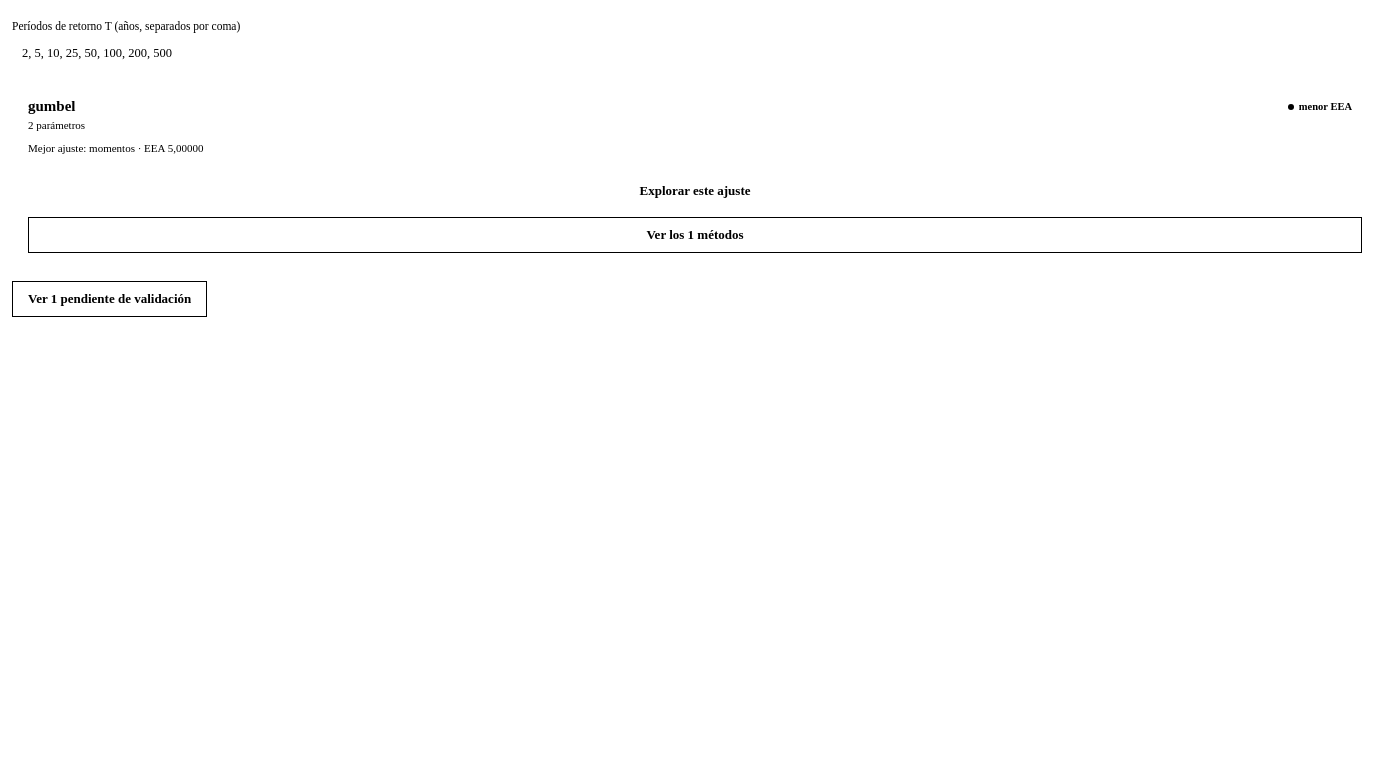
Test: Etapa2RankingView — distribución pendiente de validación (DECISIÓN 074) › la card se ve, con su tabla, pero sin ningún botón para elegir ni explorar
al final del ranking queda tras el botón de expandir, bajo su subtítulo
Click the button "Ver 1 pendiente de validación": click(110, 299) 12,281 -> 207,317
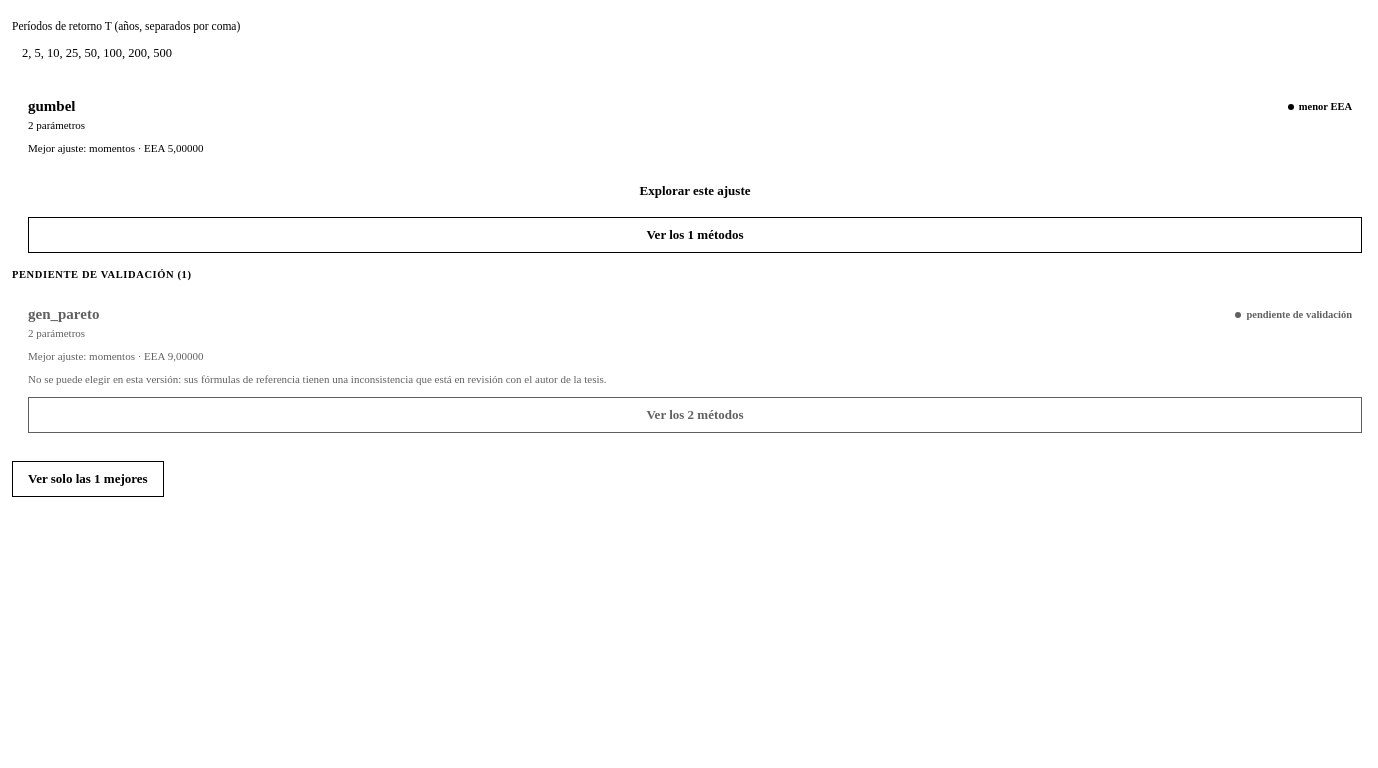
Result: the text "No se puede elegir en esta versión" is shown at 28,373 -> 606,385
Click the button "Ver los 2 métodos": click(695, 415) 28,397 -> 1362,433
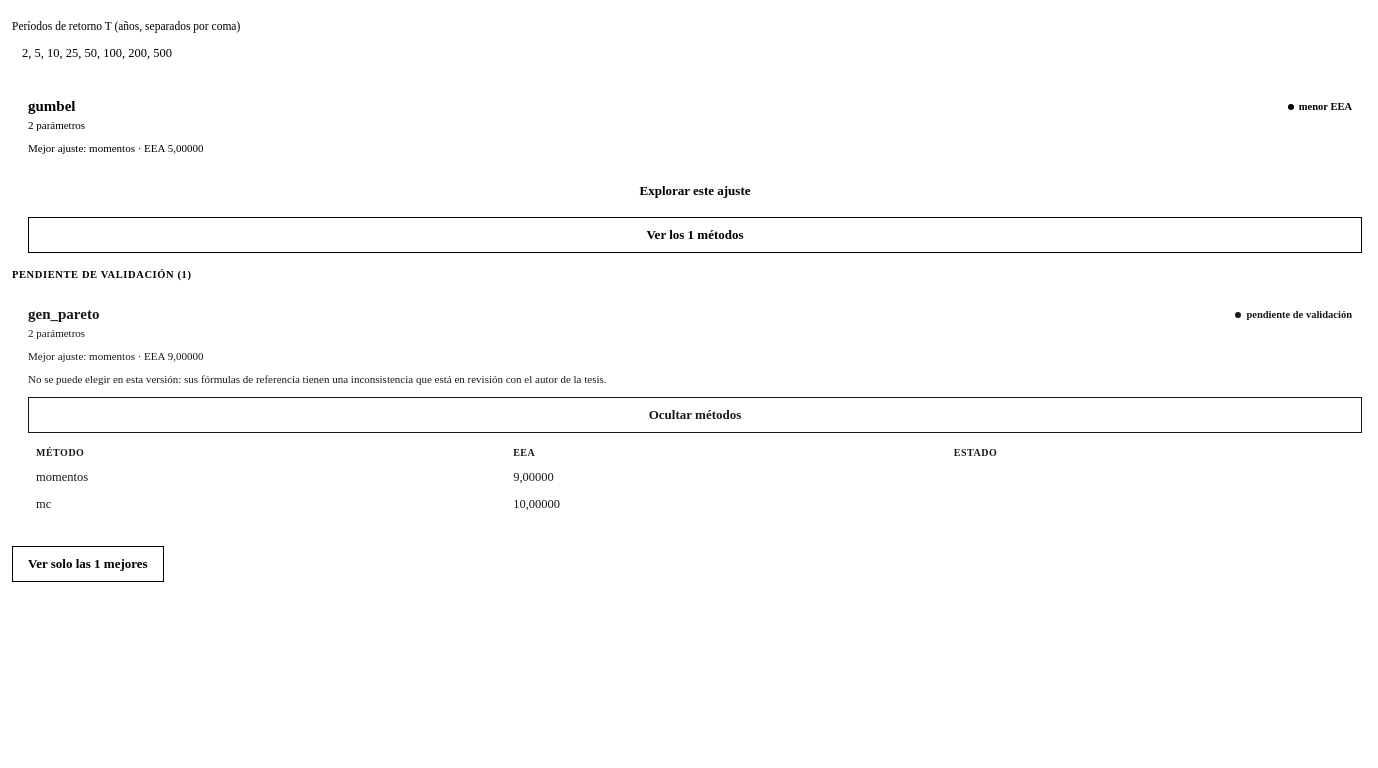
Result: the table is shown at 28,441 -> 1362,518
